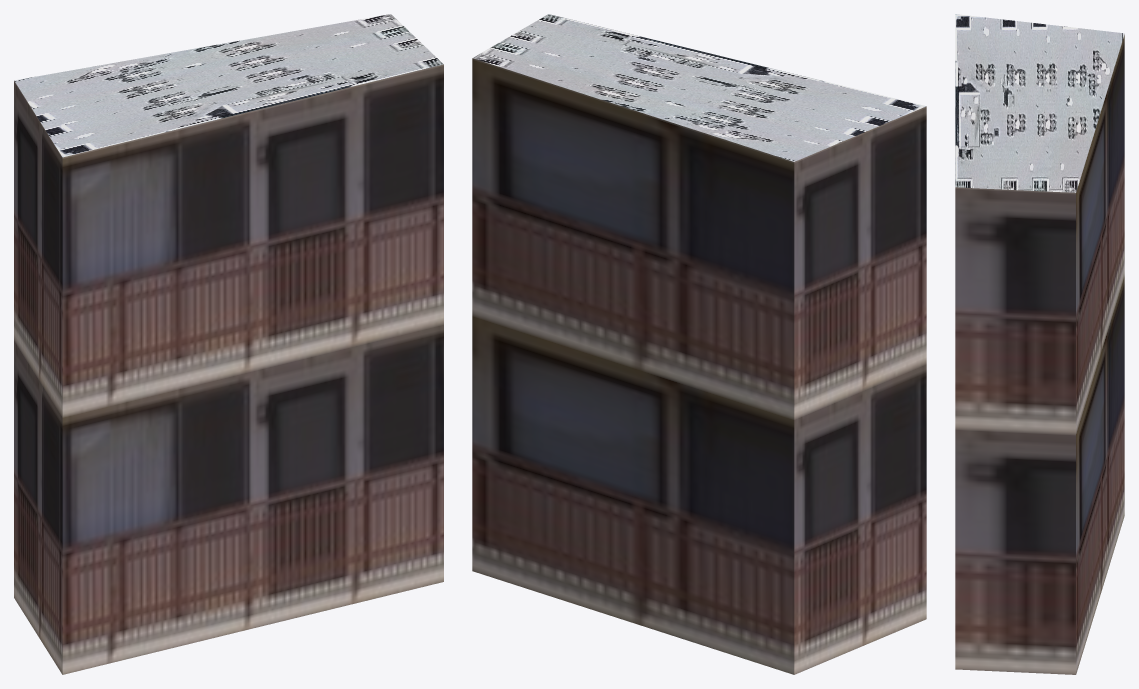
File: ResTex__4328.fbx
The picture shows the model from 3 angles, left to right: view 1: azimuth 30°, elevation 25°; view 2: azimuth 150°, elevation 25°; view 3: azimuth 270°, elevation 25°; orthographic projection. The views are drawn at different scales.
Visible parts, largest first — view 1: CityEngineMaterial_6_m, CityEngineMaterial_m; view 2: CityEngineMaterial_6_m, CityEngineMaterial_m; view 3: CityEngineMaterial_6_m, CityEngineMaterial_m.
Boxes of the visible parts, box(x1,y1,x2,y2) form: CityEngineMaterial_6_m: box(14, 64, 443, 674); CityEngineMaterial_m: box(14, 14, 443, 157); CityEngineMaterial_6_m: box(472, 58, 926, 674); CityEngineMaterial_m: box(472, 14, 925, 161); CityEngineMaterial_6_m: box(955, 34, 1124, 674); CityEngineMaterial_m: box(955, 14, 1124, 192).
Bounding box in the file's own units: 4.77 × 6 × 1.91.
Materials: 2 (2 with a texture image).
